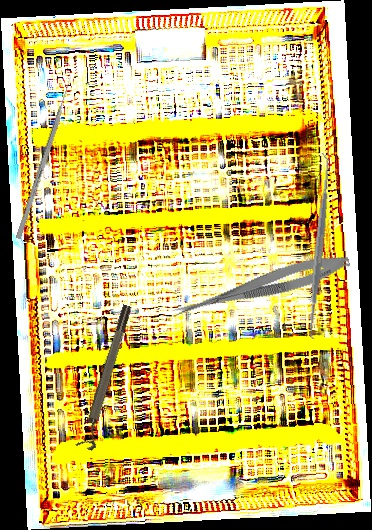Fixation Ring: (74, 303, 141, 452)
Micro Scissor: (168, 247, 353, 329)
Pusher: (15, 74, 75, 240)
Spatula Surgical: (298, 152, 340, 341)
